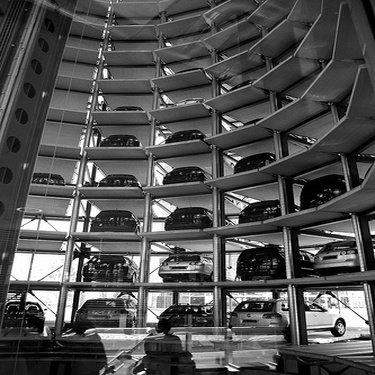car: (223, 296, 352, 341), (284, 177, 365, 219), (73, 245, 144, 290), (233, 246, 325, 279), (73, 294, 140, 334), (158, 297, 224, 335), (151, 251, 221, 285), (1, 285, 51, 330), (311, 236, 370, 274), (163, 201, 219, 235), (87, 204, 142, 238), (79, 169, 143, 197), (227, 201, 300, 224), (223, 154, 282, 181), (90, 132, 148, 158), (25, 163, 71, 194), (159, 162, 216, 187), (215, 78, 268, 100), (148, 129, 207, 147), (155, 95, 208, 115), (106, 99, 150, 122), (233, 113, 275, 137), (162, 66, 210, 84)
